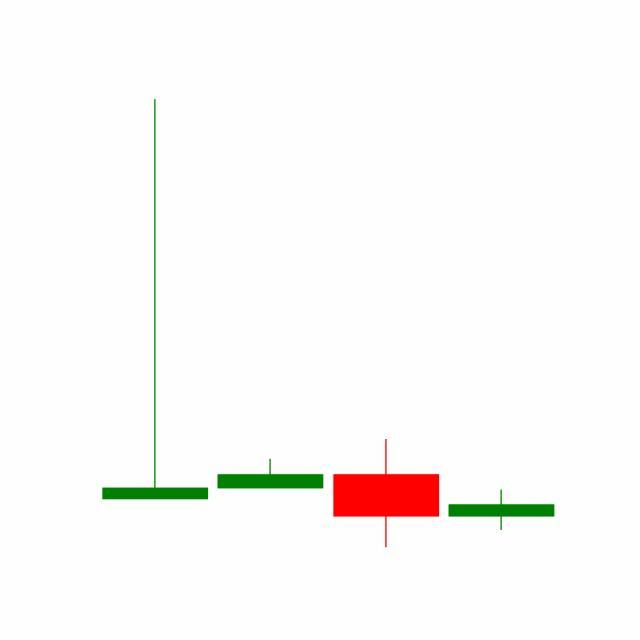Spinning Top: (444, 490, 560, 532)
